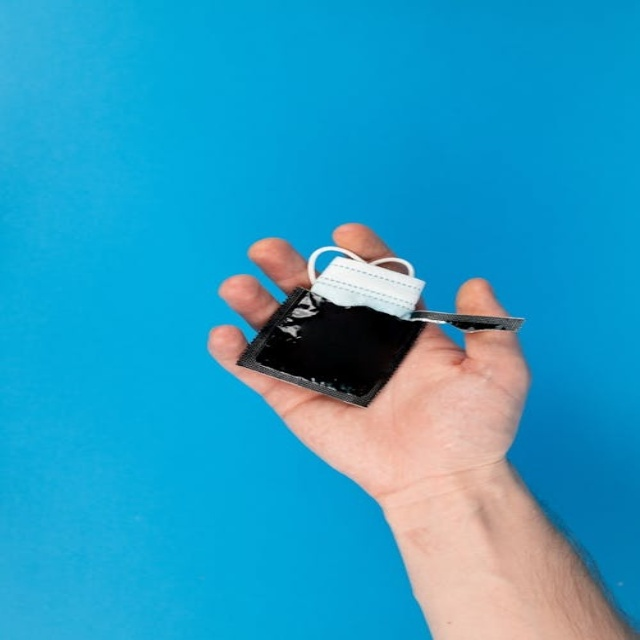Sin_guantes: (207, 222, 531, 492)
